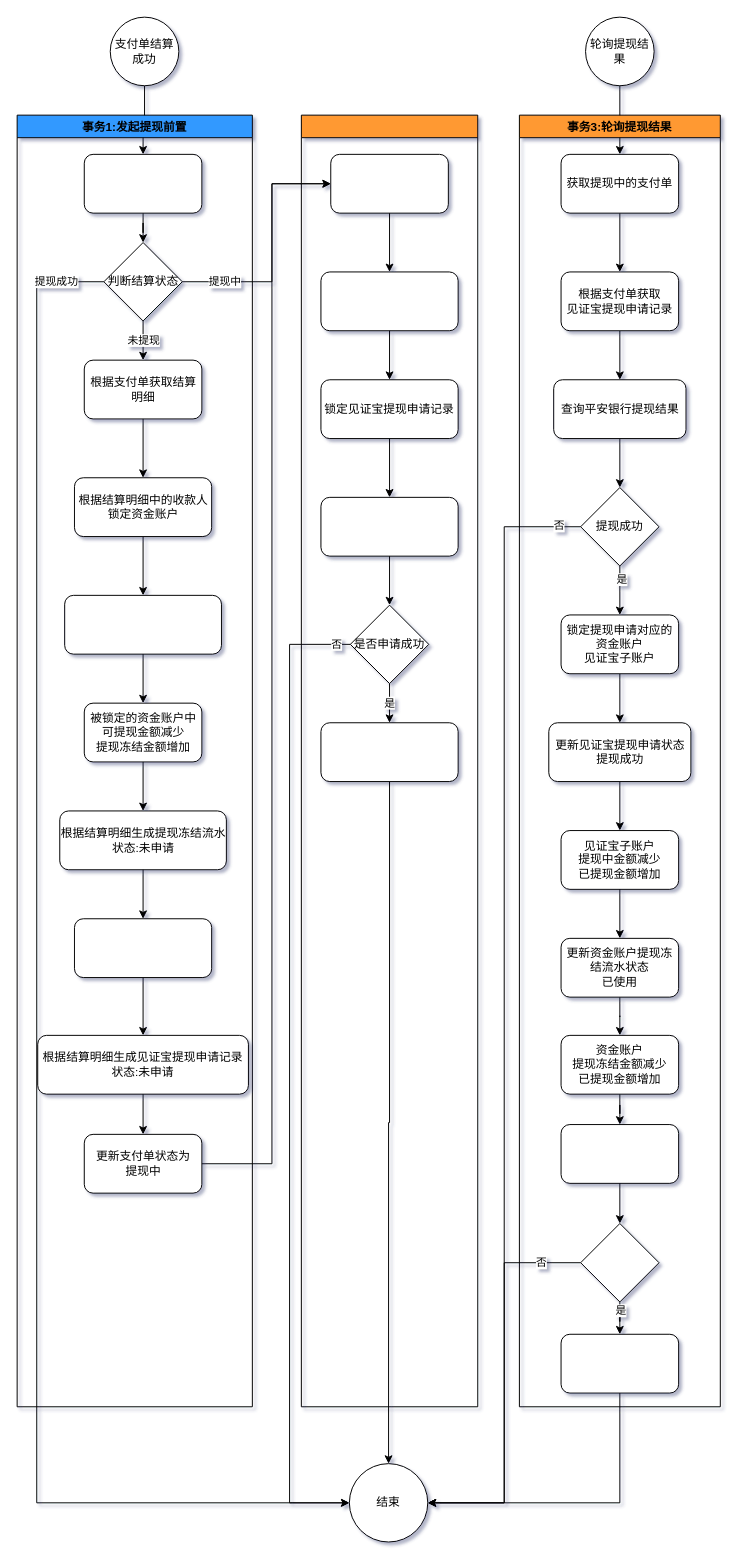
This 744x1565 diagram has some shape labels left out. Here are the shapes that lost their labels. From the top down, the box of each, then its label:
(83, 153, 202, 213): 锁定支付单
(330, 153, 448, 213): 锁定待提现资金账户
(320, 271, 458, 331): 锁定待提现见证宝子账户
(320, 496, 458, 556): 向平安银行发起提现申请
(64, 594, 221, 654): 根据结算明细中的收款人 锁定见证宝子账户
(320, 722, 458, 782): 更新见证宝提现流水状态 申请成功
(300, 114, 478, 1407): 事务2:执行提现
(74, 918, 212, 978): 被锁定的见证宝子账户 可提现金额减少 提现中金额增加
(560, 1124, 679, 1183): 记录资金账户出账流水,用途:提现
(580, 1223, 659, 1302): 判断支付单相关提现是否全部成功
(560, 1333, 679, 1393): 更新支付单状态 已提现
